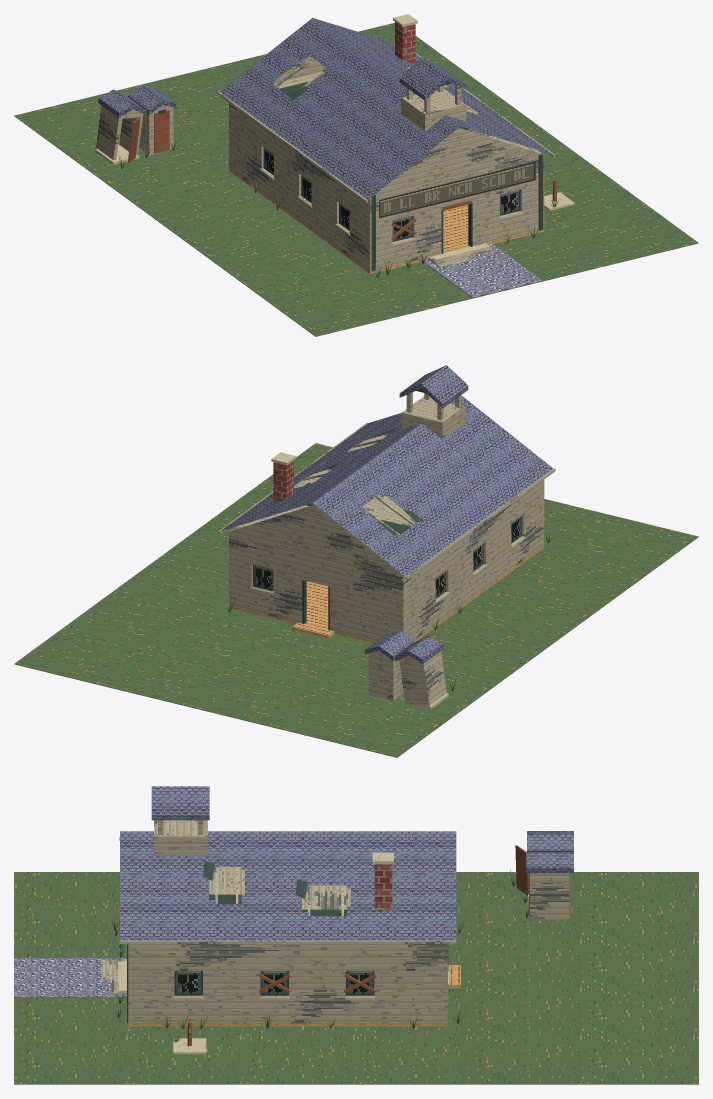
The model's file is mill-branch-abandoned.glb.
3 renders of one model, top to bottom at view 1: azimuth 30°, elevation 25°; view 2: azimuth 150°, elevation 25°; view 3: azimuth 270°, elevation 25°, orthographic. The views are drawn at different scales.
Visible parts, largest first — view 1: lot, building_shell, sign_name, Leaning outhouse; view 2: lot, building_shell, Leaning outhouse, fixed_interior; view 3: lot, building_shell, fixed_interior, Leaning outhouse, Hanging door leaf.
Part boxes in pixels (x1,y1,x2,y2): lot: (14, 22, 698, 336); building_shell: (217, 14, 554, 273); sign_name: (379, 162, 535, 218); Leaning outhouse: (96, 89, 146, 160); lot: (14, 443, 698, 757); building_shell: (218, 365, 555, 643); Leaning outhouse: (395, 635, 446, 705); fixed_interior: (241, 435, 412, 527); lot: (14, 852, 698, 1084); building_shell: (101, 786, 460, 1026); fixed_interior: (209, 866, 350, 909); Leaning outhouse: (527, 831, 573, 852); Hanging door leaf: (515, 845, 528, 894).
Size of what is drawn, in the model's own units: 22 by 9.3 by 30.
Materials: 11 (11 with a texture image).
